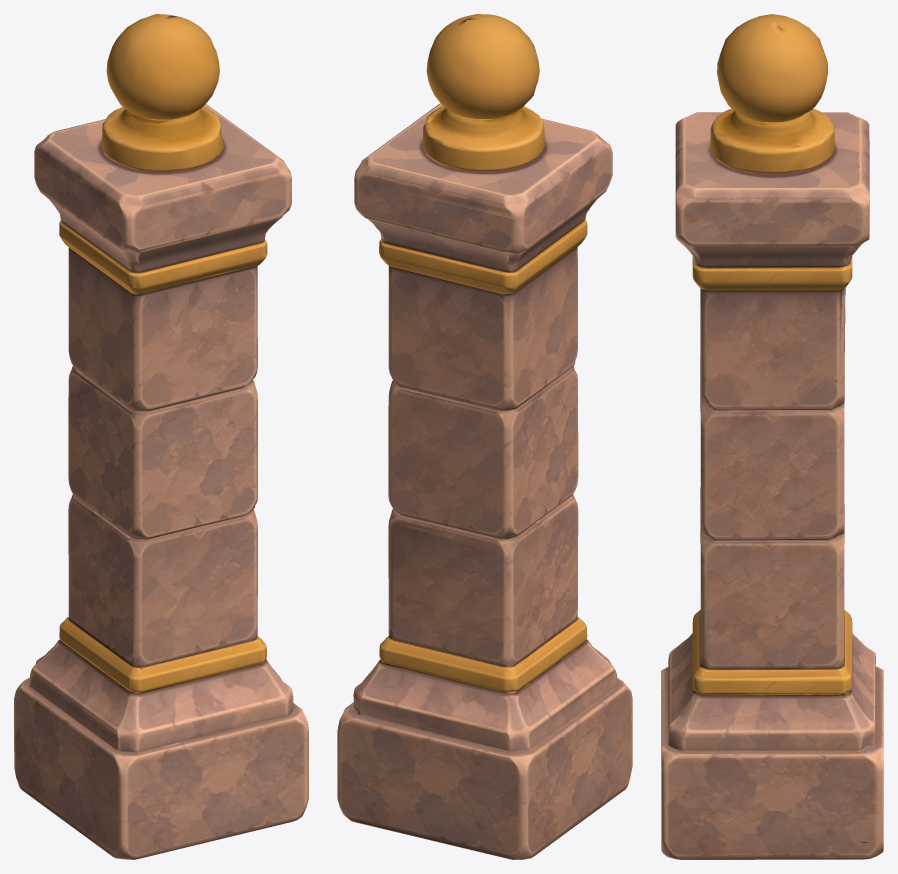
File: pier.glb
3 renders of one model, left to right at view 1: azimuth 30°, elevation 25°; view 2: azimuth 150°, elevation 25°; view 3: azimuth 270°, elevation 25°, orthographic.
Visible parts, largest first — view 1: Mesh_0; view 2: Mesh_0; view 3: Mesh_0.
Boxes of the visible parts, left/top/right/bottom form: Mesh_0: left=14, top=14, right=308, bottom=859; Mesh_0: left=337, top=14, right=632, bottom=859; Mesh_0: left=661, top=14, right=883, bottom=859.
Size of the model in its own units: 0.55 by 2.17 by 0.55.
Materials: 1 (1 with a texture image).
